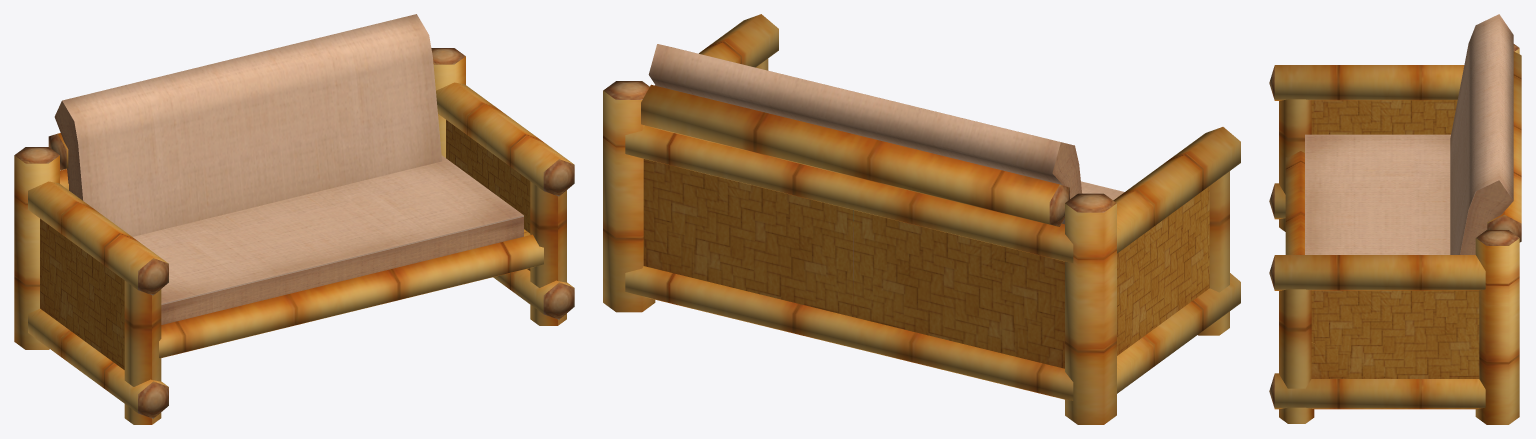
The model's file is Bamboo_Sofa_01.FBX.
3 views of the same model, side by side, from view 1: azimuth 30°, elevation 25°; view 2: azimuth 150°, elevation 25°; view 3: azimuth 270°, elevation 25° (orthographic). The views are drawn at different scales.
Visible parts, largest first — view 1: Bamboo_Sofa_01; view 2: Bamboo_Sofa_01; view 3: Bamboo_Sofa_01.
Boxes of the visible parts, x1,y1,x2,y2 form: Bamboo_Sofa_01: [14, 14, 574, 424]; Bamboo_Sofa_01: [603, 14, 1240, 424]; Bamboo_Sofa_01: [1269, 14, 1521, 424].
Bounding box in the file's own units: 1.58 × 0.8205 × 0.8068.
